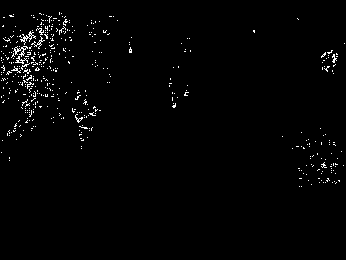person: (71, 88, 100, 150)
